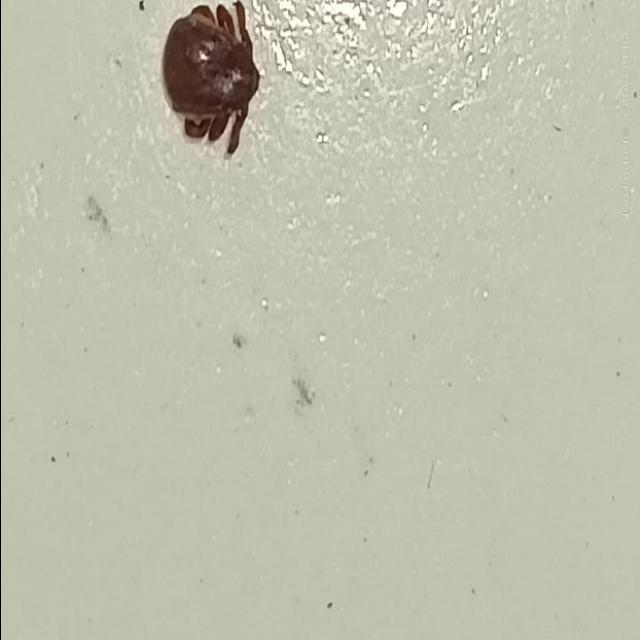Rhipicephalus Sanguineus-M: (160, 0, 262, 158)
